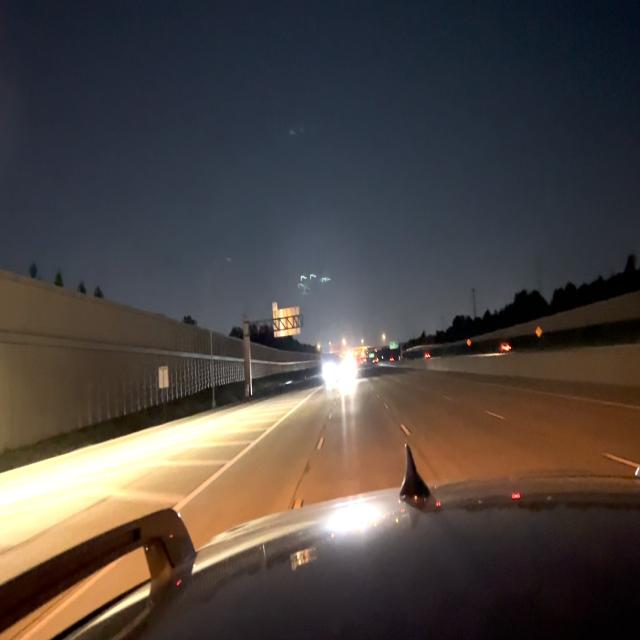back-of-sign: (272, 301, 301, 338), (158, 366, 169, 389)
